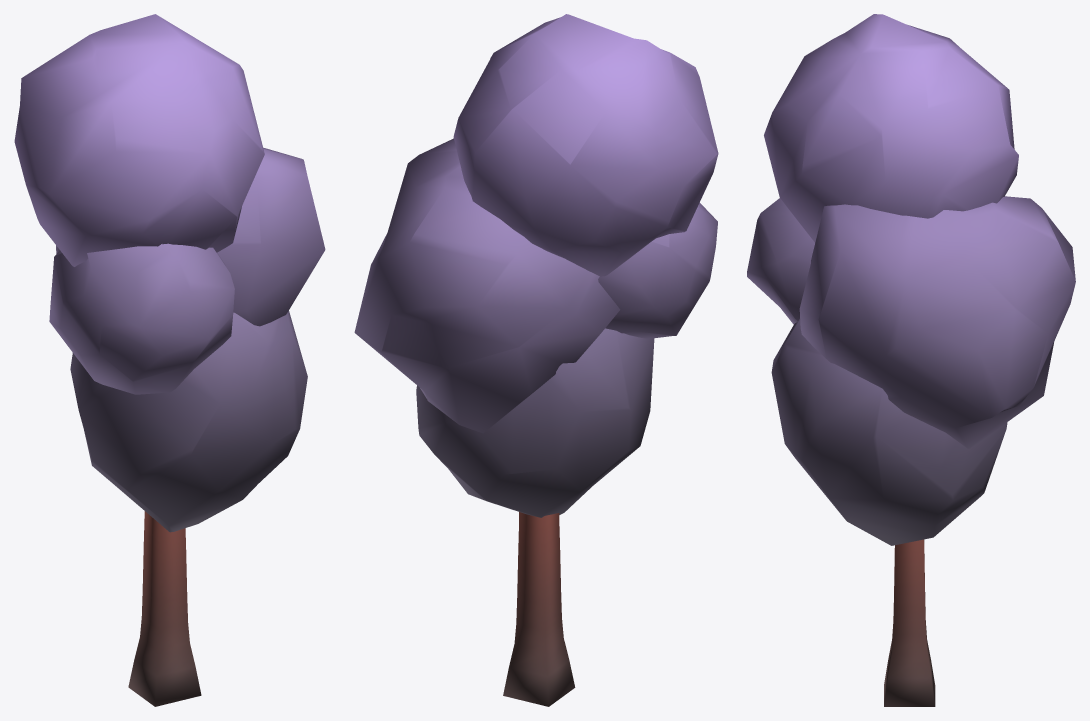
3 views of the same model, side by side, from view 1: azimuth 30°, elevation 25°; view 2: azimuth 150°, elevation 25°; view 3: azimuth 270°, elevation 25° (orthographic). The views are drawn at different scales.
Parts seen in each view (by area): view 1: Vert.025; view 2: Vert.025; view 3: Vert.025.
Boxes of the visible parts, x1,y1,x2,y2 form: Vert.025: [14, 14, 325, 706]; Vert.025: [354, 14, 718, 706]; Vert.025: [747, 14, 1075, 706].
Bounding box in the file's own units: 2.41 × 5.32 × 2.46.
Materials: 1 (1 with a texture image).
